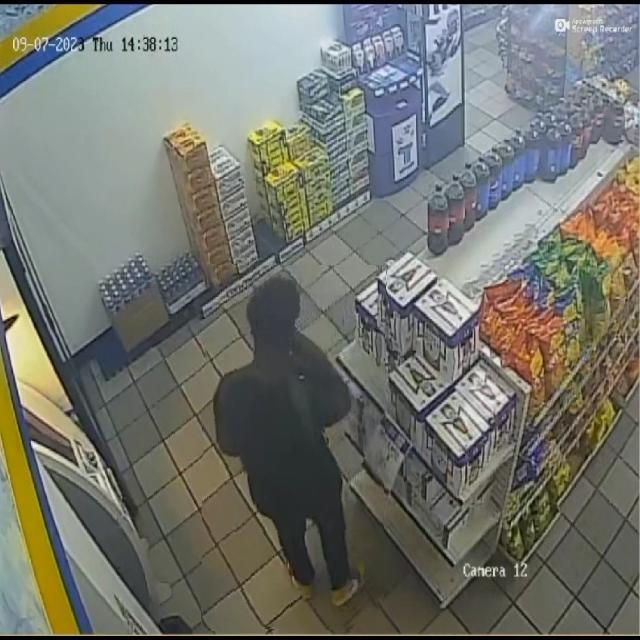Normal: (202, 265, 386, 631)
